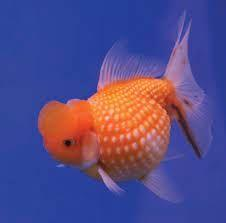Gold Fish: (36, 6, 217, 209)
